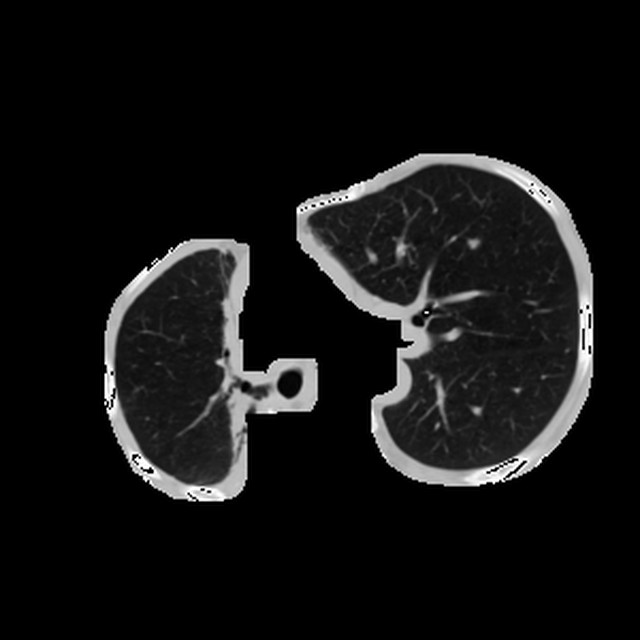PN: (465, 235, 482, 252)
